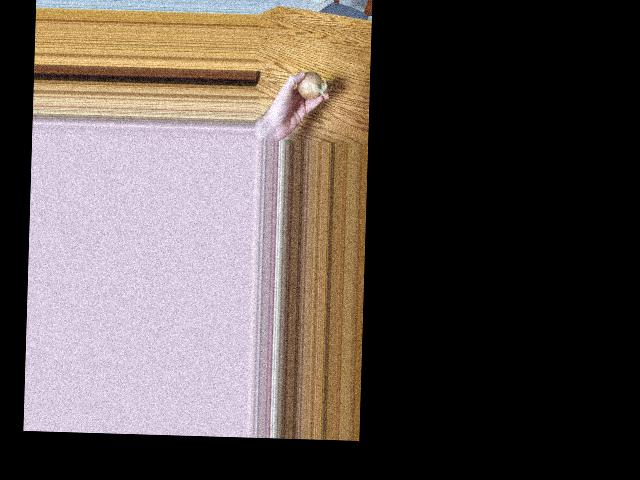onion: (296, 71, 322, 101)
